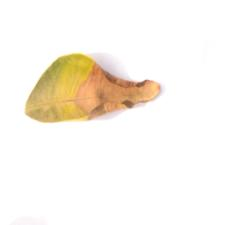Black: (71, 54, 167, 128)
